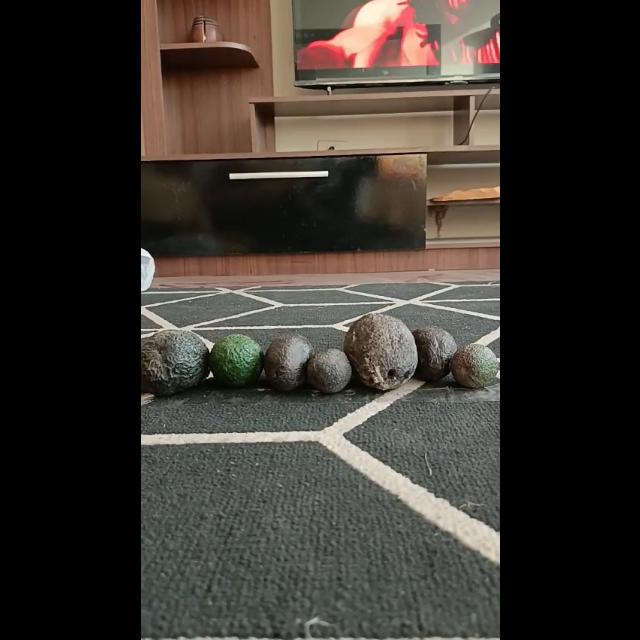Primera: (343, 312, 417, 390), (140, 329, 208, 395)
Segunda: (262, 334, 312, 391), (208, 334, 262, 386), (409, 326, 457, 380)
Tercera: (306, 348, 352, 394), (449, 344, 497, 388)
